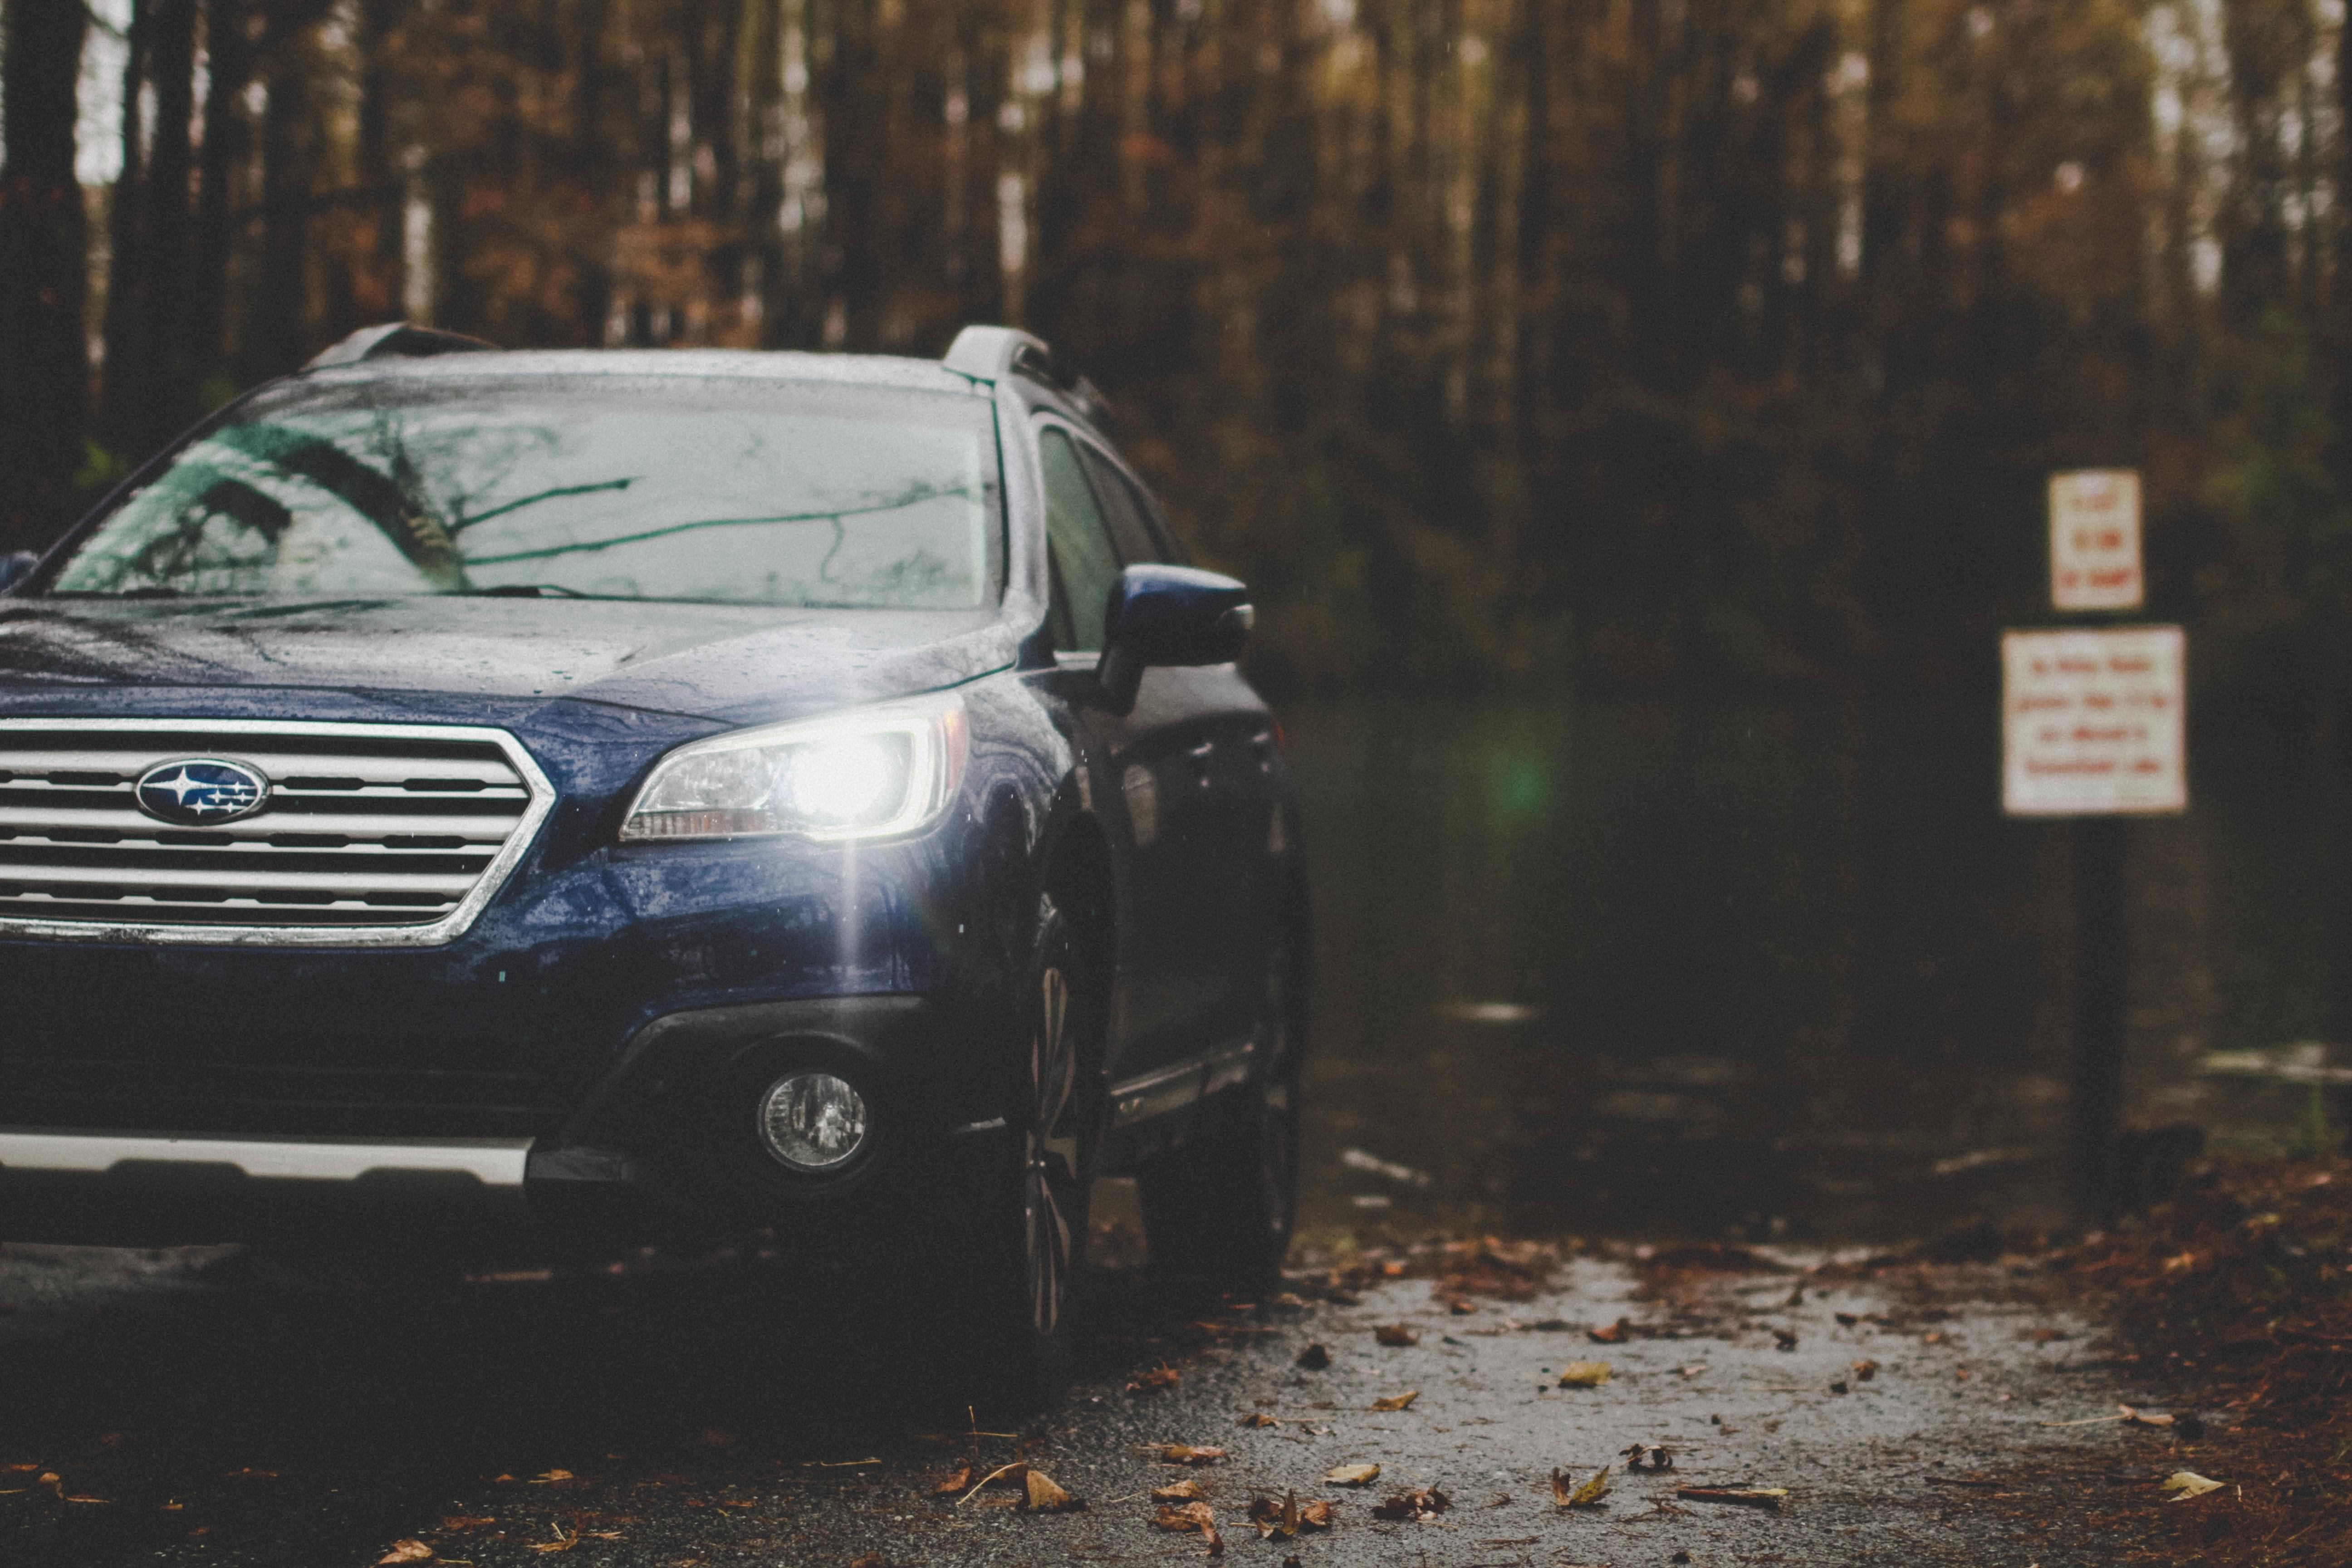subaru: (102, 731, 304, 861)
